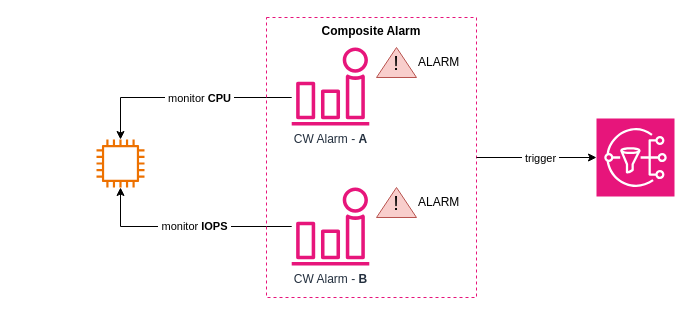
Image size: 692x315. Some labels were removed from this diagram. Here are the shapes that lost their labels. From the top down, the box of each, then its label:
(96, 139, 144, 187): EC2 Instance
(596, 118, 674, 196): Amazon SNS
